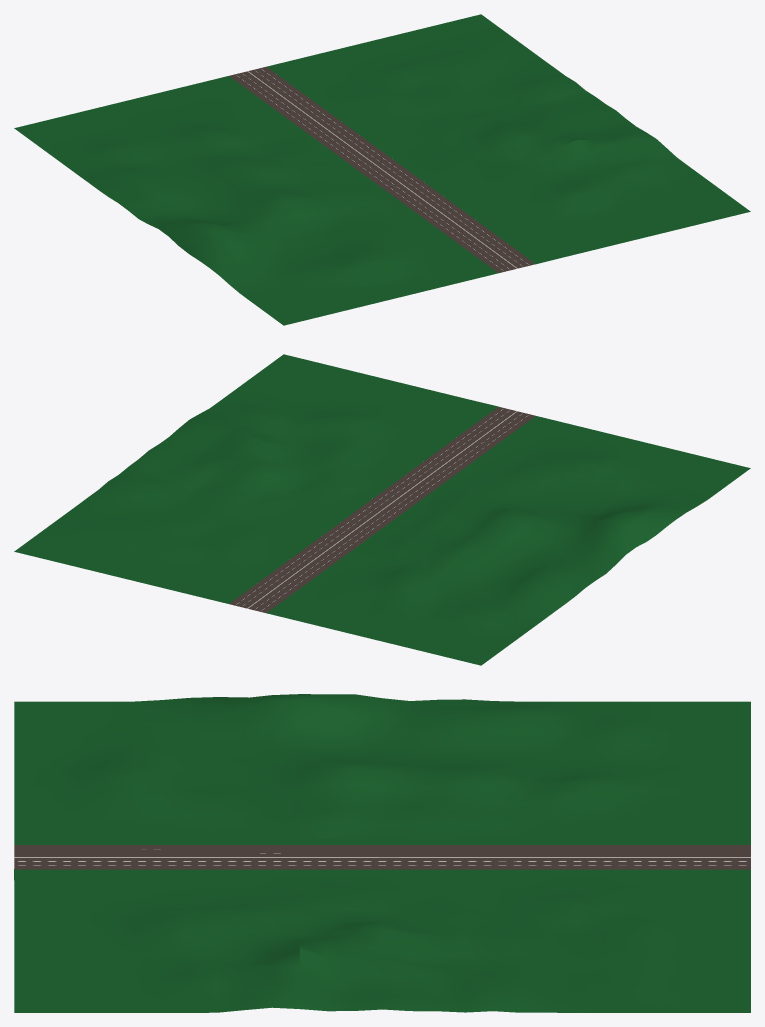
Rendered from TileHighway5_1.fbx.
3 renders of one model, top to bottom at view 1: azimuth 30°, elevation 25°; view 2: azimuth 150°, elevation 25°; view 3: azimuth 270°, elevation 25°, orthographic. The views are drawn at different scales.
Parts seen in each view (by area): view 1: Plane.013, Road; view 2: Plane.013, Road; view 3: Plane.013, Road.
Part boxes in pixels (bbox=[...]): Plane.013: bbox=[14, 14, 750, 325]; Road: bbox=[229, 67, 535, 272]; Plane.013: bbox=[14, 354, 750, 665]; Road: bbox=[229, 407, 535, 612]; Plane.013: bbox=[14, 694, 750, 1012]; Road: bbox=[14, 845, 750, 869].
Size of the model in its own units: 20015 by 682 by 20011.
